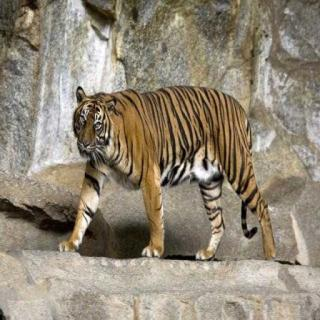Tiger: (53, 79, 281, 263)
